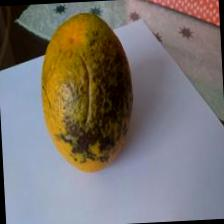Orange Rotten: (32, 6, 144, 182)
